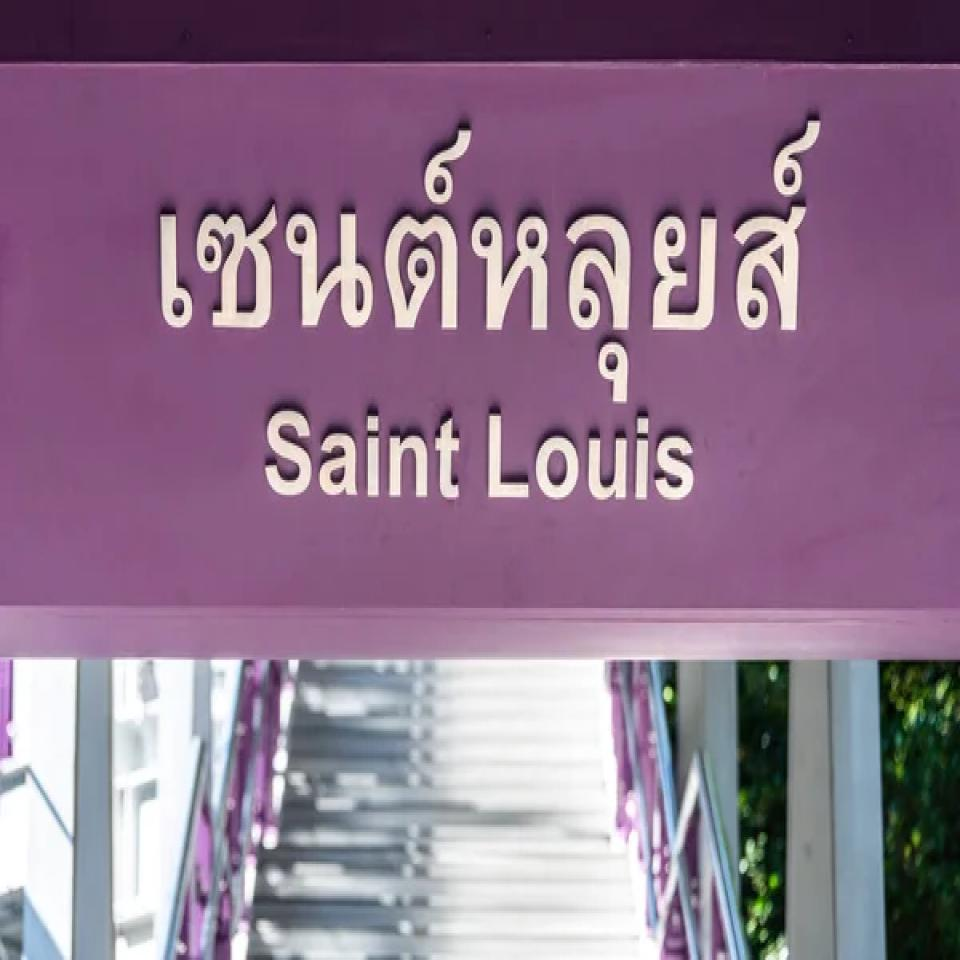Saint Louis: (0, 65, 958, 607)
